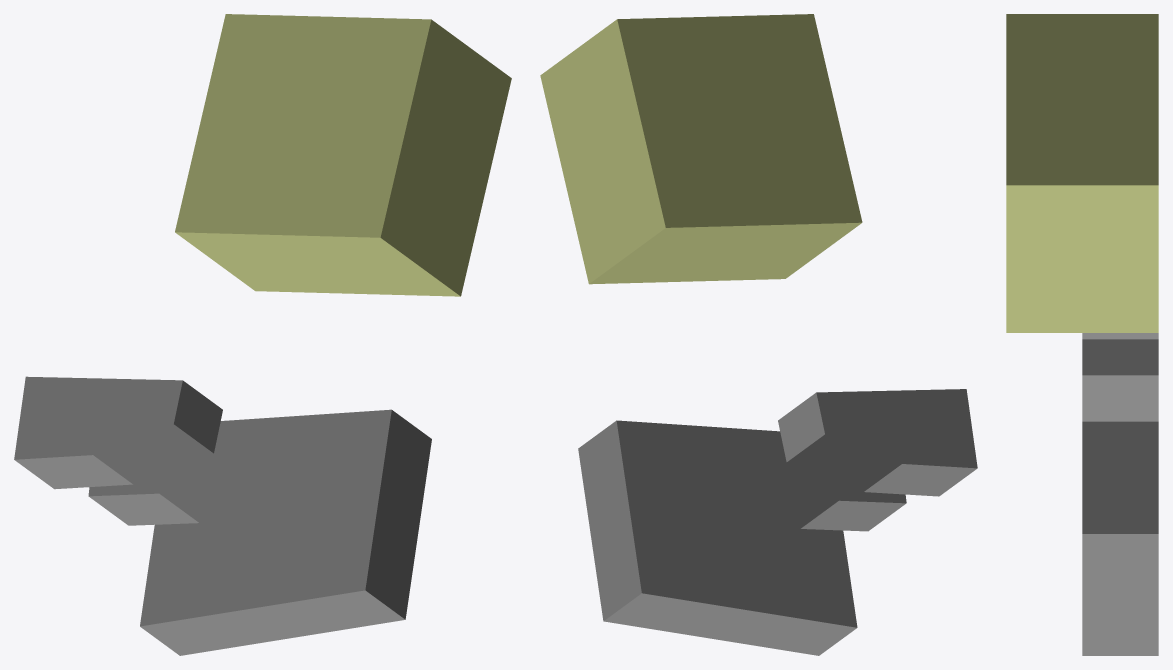
The picture shows the model from 3 angles, left to right: view 1: azimuth 30°, elevation 25°; view 2: azimuth 150°, elevation 25°; view 3: azimuth 270°, elevation 25°; orthographic projection. The views are drawn at different scales.
Parts seen in each view (by area): view 1: 0_3_0_1_2_2_2_3_2; view 2: 0_3_0_1_2_2_2_3_2; view 3: 0_3_0_1_2_2_2_3_2.
Part boxes in pixels (box(x1,y1,x2,y2)): 0_3_0_1_2_2_2_3_2: box(14, 14, 511, 655); 0_3_0_1_2_2_2_3_2: box(540, 14, 977, 655); 0_3_0_1_2_2_2_3_2: box(1006, 14, 1158, 655).
Size of the model in its own units: 17.97 by 25.12 by 6.
